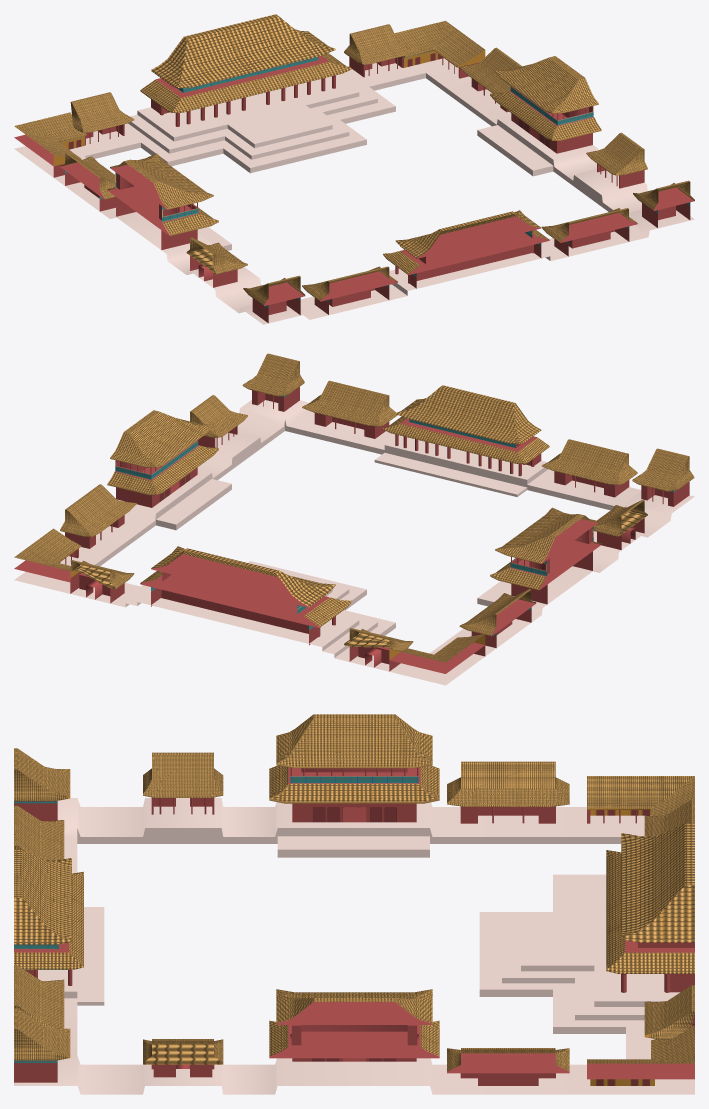
Rendered from forbiddenPalace.obj.
3 renders of one model, top to bottom at view 1: azimuth 30°, elevation 25°; view 2: azimuth 150°, elevation 25°; view 3: azimuth 270°, elevation 25°, orthographic. The views are drawn at different scales.
Parts seen in each view (by area): view 1: pasted__polySurface237 pasted__polySurface213 floor_sanBottom, mainBuilding:mainBuilding mainBuilding:pasted__polySurface33, bigBuilding1:bigBuilding bigBuilding1:pasted__pasted__polySurfac, bigBuilding:bigBuilding bigBuilding:pasted__pasted__polySurface3, mainBuilding:pasted__polySurface35 mainBuilding:mainBuilding, mainBuilding1:mainBuilding mainBuilding1:pasted__polySurface33, cornerBuilding1:pCube17 cornerBuilding1:cornerBuilding, mainBuilding1:pasted__polySurface35 mainBuilding1:mainBuilding, cornerBuilding:cornerBuilding cornerBuilding:pCube17, smallBuildingGate1:group1 smallBuildingGate1:smallBuildingGate s, smallBuildingGate:polySurface22 smallBuildingGate:group1 smallBu, smallBuilding2:group1 smallBuilding2:smallBuilding smallBuilding (+17 smaller); view 2: pasted__polySurface237 pasted__polySurface213 floor_sanBottom, bigBuilding1:bigBuilding bigBuilding1:pasted__pasted__polySurfac, bigBuilding:bigBuilding bigBuilding:pasted__pasted__polySurface3, mainBuilding:mainBuilding mainBuilding:pasted__polySurface33, mainBuilding1:mainBuilding mainBuilding1:pasted__polySurface33, mainBuilding:pasted__polySurface35 mainBuilding:mainBuilding, mainBuilding1:pasted__polySurface35 mainBuilding1:mainBuilding, smallBuilding3:group1 smallBuilding3:smallBuilding smallBuilding, smallBuilding2:group1 smallBuilding2:smallBuilding smallBuilding, smallBuilding:group1 smallBuilding:smallBuilding smallBuilding:p, cornerBuilding1:pCube17 cornerBuilding1:cornerBuilding, cornerBuilding:cornerBuilding cornerBuilding:pCube17 (+18 smaller); view 3: pasted__polySurface237 pasted__polySurface213 floor_sanBottom, bigBuilding:bigBuilding bigBuilding:pasted__pasted__polySurface3, bigBuilding1:bigBuilding bigBuilding1:pasted__pasted__polySurfac, mainBuilding:mainBuilding mainBuilding:pasted__polySurface33, mainBuilding1:mainBuilding mainBuilding1:pasted__polySurface33, smallBuilding1:group1 smallBuilding1:smallBuilding smallBuilding, mainBuilding:pasted__polySurface35 mainBuilding:mainBuilding, cornerBuilding:cornerBuilding cornerBuilding:pCube17, smallBuildingGate2:group1 smallBuildingGate2:smallBuildingGate s, cornerBuilding1:pCube17 cornerBuilding1:cornerBuilding, smallBuilding:group1 smallBuilding:smallBuilding smallBuilding:p, bigBuilding:bigBuilding bigBuilding:pasted__polySurface40 (+13 smaller).
Part boxes in pixels (box(x1,y1,x2,y2)): pasted__polySurface237 pasted__polySurface213 floor_sanBottom: box(14, 58, 694, 324); mainBuilding:mainBuilding mainBuilding:pasted__polySurface33: box(151, 14, 335, 88); bigBuilding1:bigBuilding bigBuilding1:pasted__pasted__polySurfac: box(490, 56, 601, 140); bigBuilding:bigBuilding bigBuilding:pasted__pasted__polySurface3: box(107, 153, 218, 235); mainBuilding:pasted__polySurface35 mainBuilding:mainBuilding: box(140, 53, 351, 112); mainBuilding1:mainBuilding mainBuilding1:pasted__polySurface33: box(395, 210, 541, 258); cornerBuilding1:pCube17 cornerBuilding1:cornerBuilding: box(394, 20, 485, 67); mainBuilding1:pasted__polySurface35 mainBuilding1:mainBuilding: box(383, 230, 549, 275); cornerBuilding:cornerBuilding cornerBuilding:pCube17: box(14, 112, 86, 166); smallBuildingGate1:group1 smallBuildingGate1:smallBuildingGate s: box(344, 24, 413, 64); smallBuildingGate:polySurface22 smallBuildingGate:group1 smallBu: box(70, 92, 134, 132); smallBuilding2:group1 smallBuilding2:smallBuilding smallBuilding: box(302, 266, 397, 301); pasted__polySurface237 pasted__polySurface213 floor_sanBottom: box(14, 400, 694, 685); bigBuilding1:bigBuilding bigBuilding1:pasted__pasted__polySurfac: box(107, 410, 218, 495); bigBuilding:bigBuilding bigBuilding:pasted__pasted__polySurface3: box(490, 507, 601, 590); mainBuilding:mainBuilding mainBuilding:pasted__polySurface33: box(151, 546, 335, 607); mainBuilding1:mainBuilding mainBuilding1:pasted__polySurface33: box(395, 385, 541, 444); mainBuilding:pasted__polySurface35 mainBuilding:mainBuilding: box(140, 571, 351, 627); mainBuilding1:pasted__polySurface35 mainBuilding1:mainBuilding: box(383, 416, 549, 463); smallBuilding3:group1 smallBuilding3:smallBuilding smallBuilding: box(302, 380, 397, 426); smallBuilding2:group1 smallBuilding2:smallBuilding smallBuilding: box(541, 439, 637, 485); smallBuilding:group1 smallBuilding:smallBuilding smallBuilding:p: box(60, 484, 136, 536); cornerBuilding1:pCube17 cornerBuilding1:cornerBuilding: box(14, 528, 81, 582); cornerBuilding:cornerBuilding cornerBuilding:pCube17: box(389, 634, 485, 673); pasted__polySurface237 pasted__polySurface213 floor_sanBottom: box(14, 798, 694, 1094); bigBuilding:bigBuilding bigBuilding:pasted__pasted__polySurface3: box(269, 714, 439, 803); bigBuilding1:bigBuilding bigBuilding1:pasted__pasted__polySurfac: box(269, 989, 439, 1058); mainBuilding:mainBuilding mainBuilding:pasted__polySurface33: box(621, 823, 694, 942); mainBuilding1:mainBuilding mainBuilding1:pasted__polySurface33: box(14, 849, 71, 944); smallBuilding1:group1 smallBuilding1:smallBuilding smallBuilding: box(447, 761, 569, 806); mainBuilding:pasted__polySurface35 mainBuilding:mainBuilding: box(606, 850, 694, 973); cornerBuilding:cornerBuilding cornerBuilding:pCube17: box(587, 776, 694, 815); smallBuildingGate2:group1 smallBuildingGate2:smallBuildingGate s: box(143, 752, 223, 797); cornerBuilding1:pCube17 cornerBuilding1:cornerBuilding: box(587, 1026, 694, 1079); smallBuilding:group1 smallBuilding:smallBuilding smallBuilding:p: box(447, 1048, 569, 1073); bigBuilding:bigBuilding bigBuilding:pasted__polySurface40: box(292, 803, 416, 822).
Bounding box in the file's own units: 130 × 21.83 × 130.
